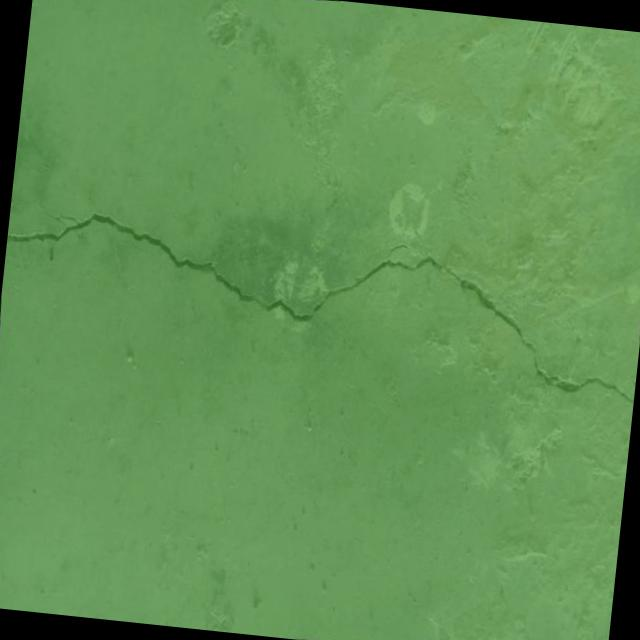crack: (0, 164, 640, 437)
